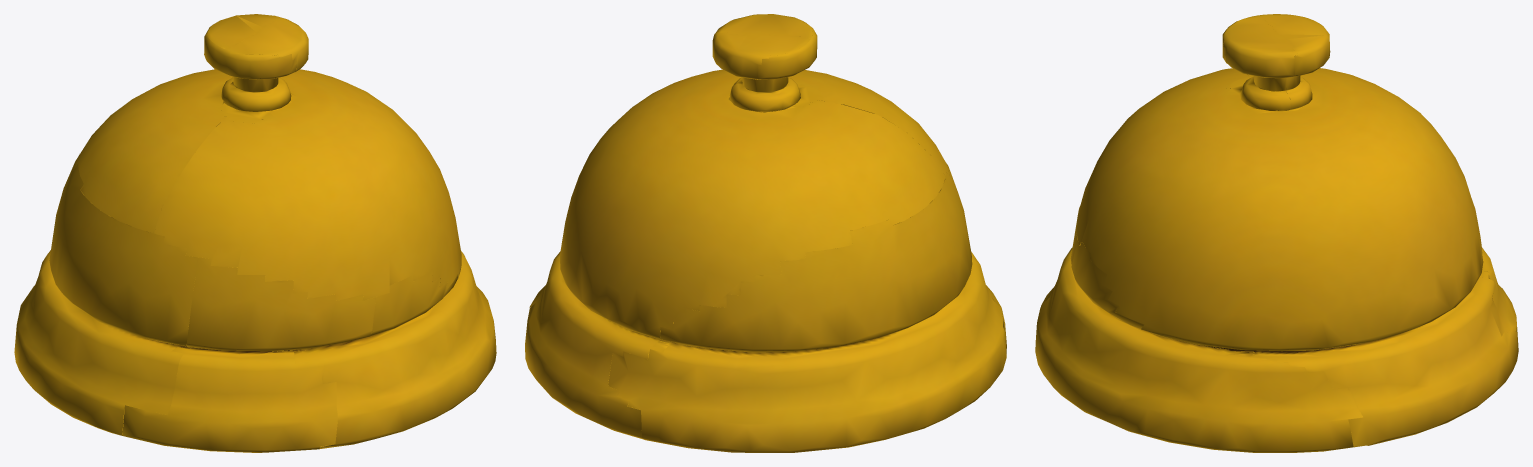
Rendered from reception-bell.glb.
3 views of the same model, side by side, from view 1: azimuth 30°, elevation 25°; view 2: azimuth 150°, elevation 25°; view 3: azimuth 270°, elevation 25° (orthographic).
Parts seen in each view (by area): view 1: model; view 2: model; view 3: model.
Boxes of the visible parts, x1,y1,x2,y2 form: model: (14, 14, 496, 452); model: (525, 14, 1006, 452); model: (1035, 14, 1518, 452).
Bounding box in the file's own units: 0.1799 × 0.1317 × 0.18.
Materials: 1 (1 with a texture image).
